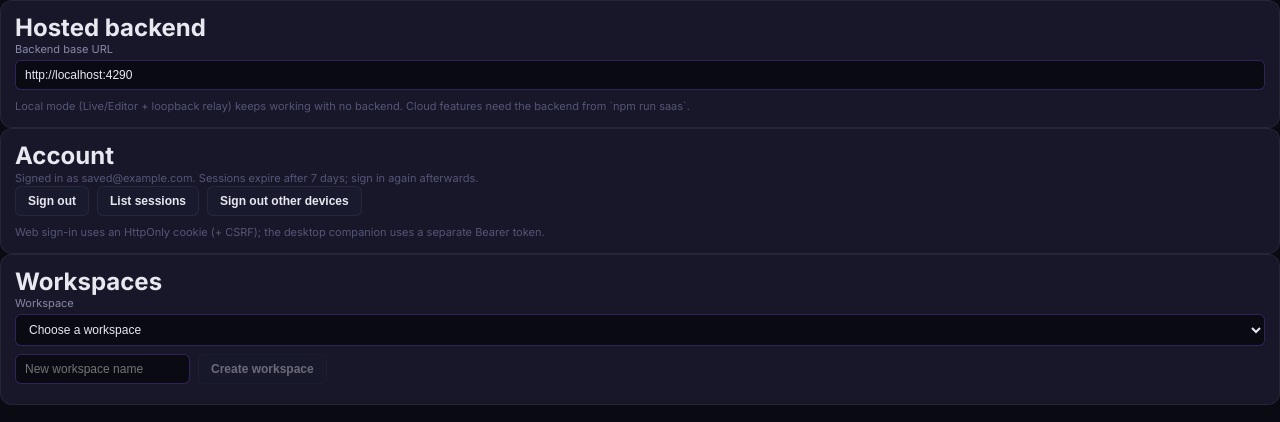
Test: CloudPanel (M7) › clears the active account when the backend changes
Expected: the button "Sign out" is shown, [15,186,89,216]
Replace the text in the field named "Cloud backend URL" with "https://other.example": (640, 75) [15,60,1265,90]
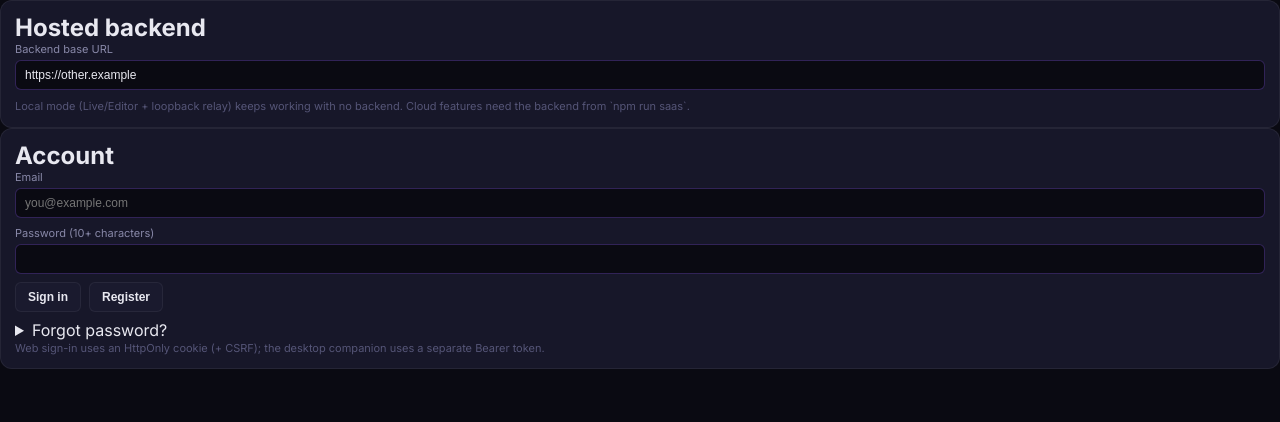
Expected: the button "Sign in" is shown, [15,282,81,312]
Now the button "Sign out" is gone
